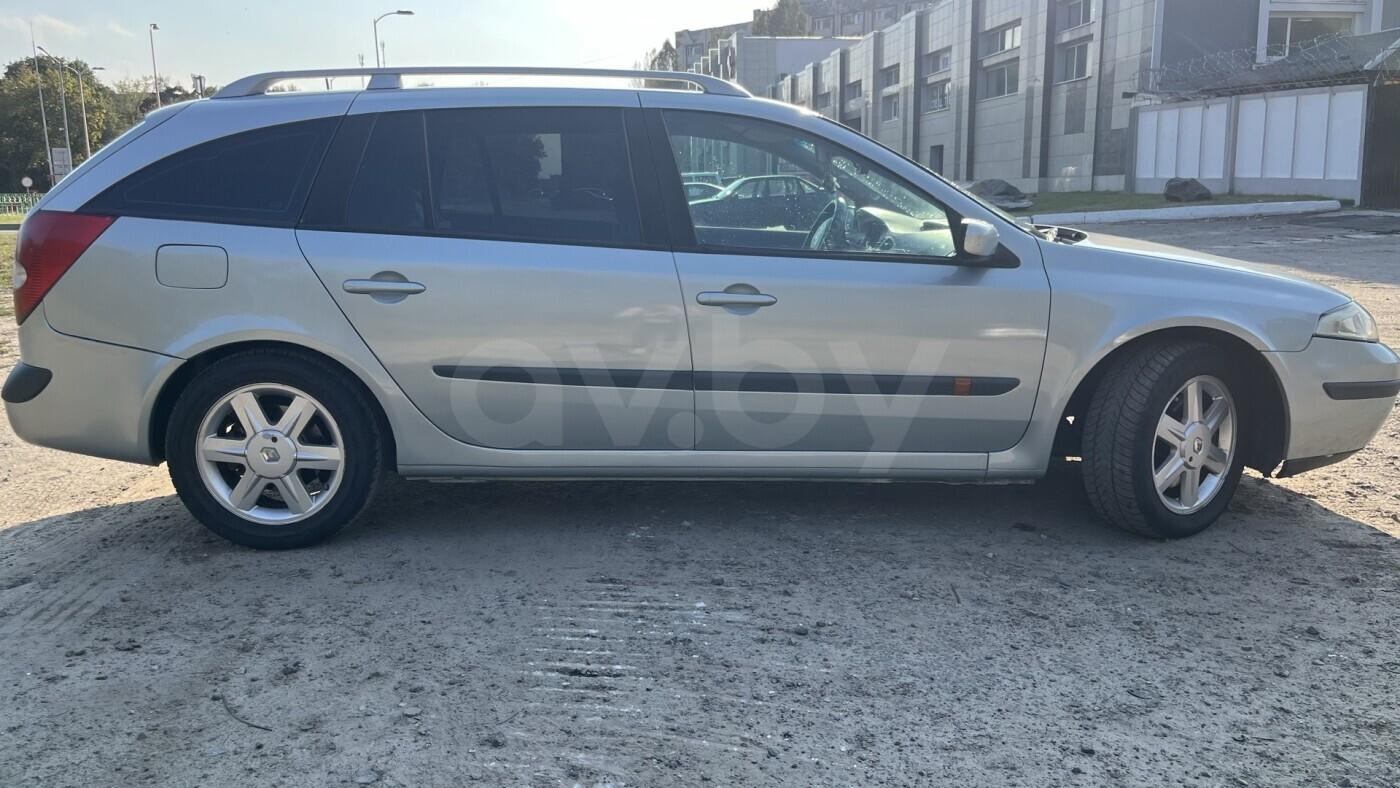Laguna_2001-2005: (3, 66, 1399, 548)
